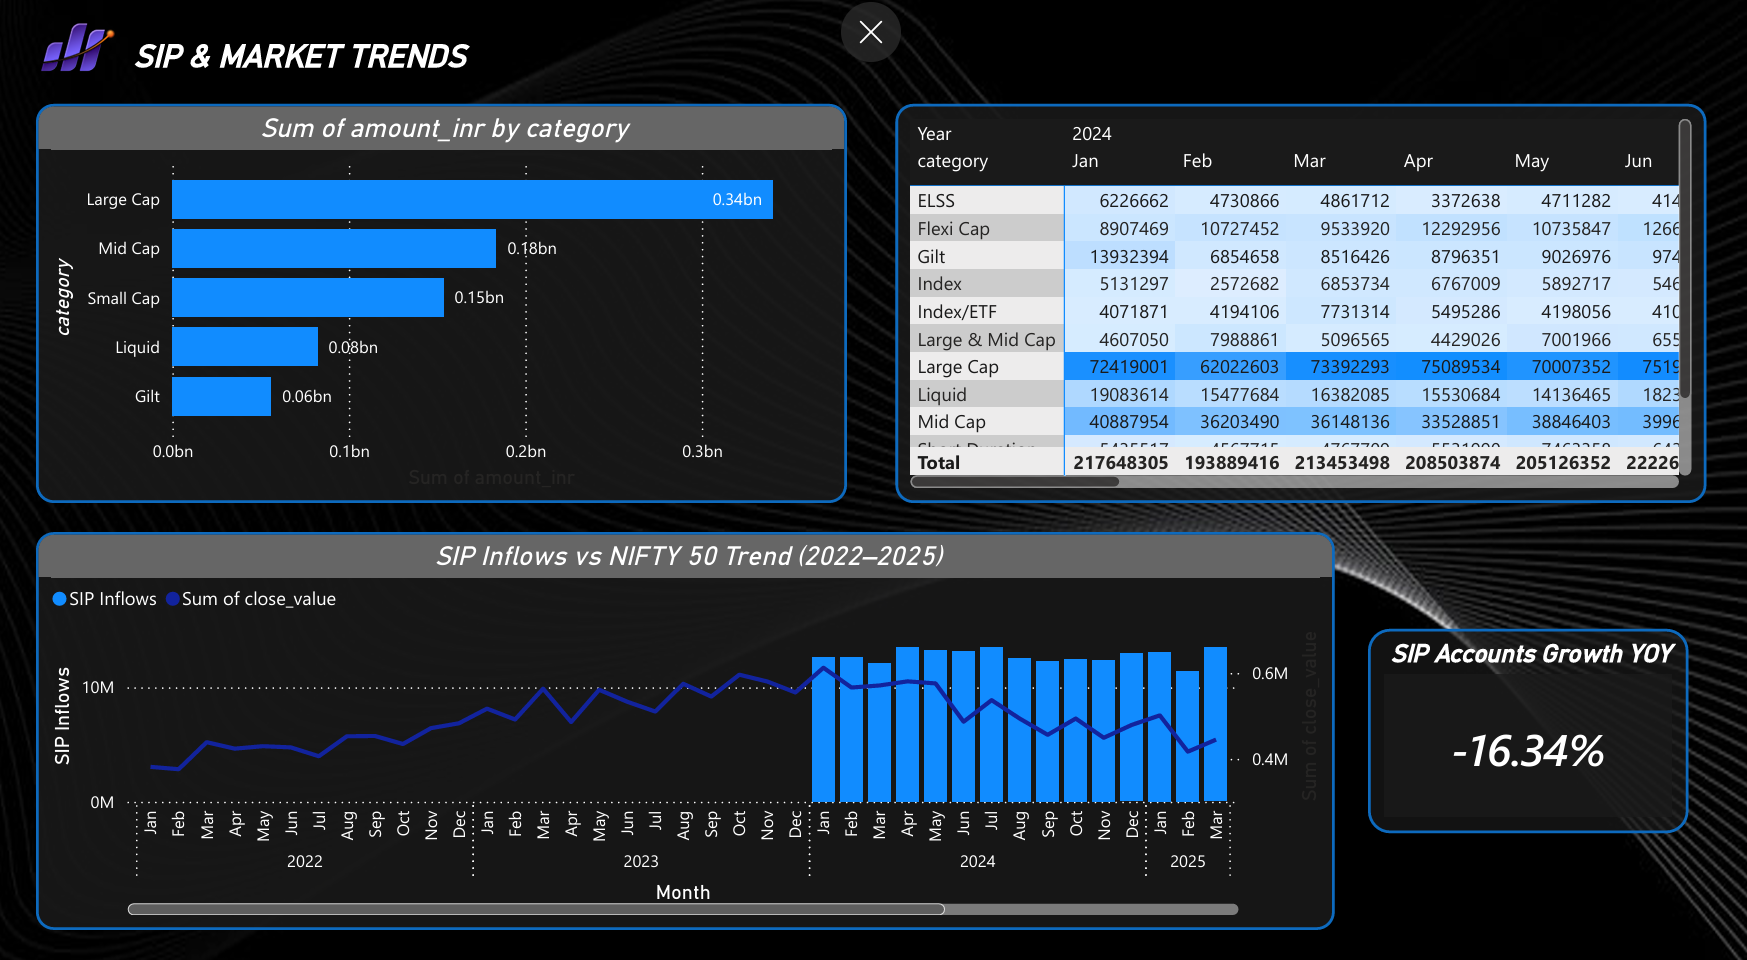

The page's visual inventory and layout, read from the dashboard file:
{"tool":"powerbi","page":{"name":"SIP & Market Trends","canvas":[1280,720],"ordinal":3},"visuals":[{"type":"image","box":[0,1.4,1280,719.2],"z":0},{"type":"lineClusteredColumnComboChart","title":"SIP Inflows vs NIFTY 50 Trend (2022–2025)","fields":{"Y":["clean_transactions.SIP Inflows"],"Y2":["Sum(10_benchmark_indices.close_value)"],"Category":["DateTable.Year","DateTable.Month"]},"box":[36.5,392.6,939.3,288.8],"z":1000},{"type":"pivotTable","title":"Category-wise Monthly Inflows Heatmap","fields":{"Rows":["clean_performance.category"],"Columns":["DateTable.Year","DateTable.Month"],"Values":["Sum(clean_transactions.amount_inr)"]},"box":[657.5,82.7,587.4,288.8],"z":2000},{"type":"clusteredBarChart","fields":{"Category":["clean_performance.category"],"Y":["Sum(clean_transactions.amount_inr)"]},"box":[36.5,82.7,587,288.8],"z":3000},{"type":"cardVisual","title":"SIP Accounts Growth YOY","fields":{"Data":["10_benchmark_indices.SIP Accounts Growth YoY"]},"box":[999.6,462.7,232.7,148.6],"z":4000},{"type":"textbox","title":"SIP & MARKET TRENDS","box":[65.9,35,322.5,25.2],"z":5000},{"type":"image","box":[0,9.8,130.4,64.5],"z":6000}]}

Visuals, with their boxes in screenshot pixels (x1, y1, x2, y2), scaled from the page's 1280x720 canvas onto the 1747x960 screenshot:
image: rect(0, 2, 1746, 959)
"SIP Inflows vs NIFTY 50 Trend (2022–2025)" lineClusteredColumnComboChart: rect(50, 523, 1332, 909)
"Category-wise Monthly Inflows Heatmap" pivotTable: rect(897, 110, 1699, 495)
clusteredBarChart - clean_performance.category x Sum(clean_transactions.amount_inr): rect(50, 110, 851, 495)
"SIP Accounts Growth YOY" cardVisual: rect(1364, 617, 1682, 815)
"SIP & MARKET TRENDS" textbox: rect(90, 47, 530, 80)
image: rect(0, 13, 178, 99)
